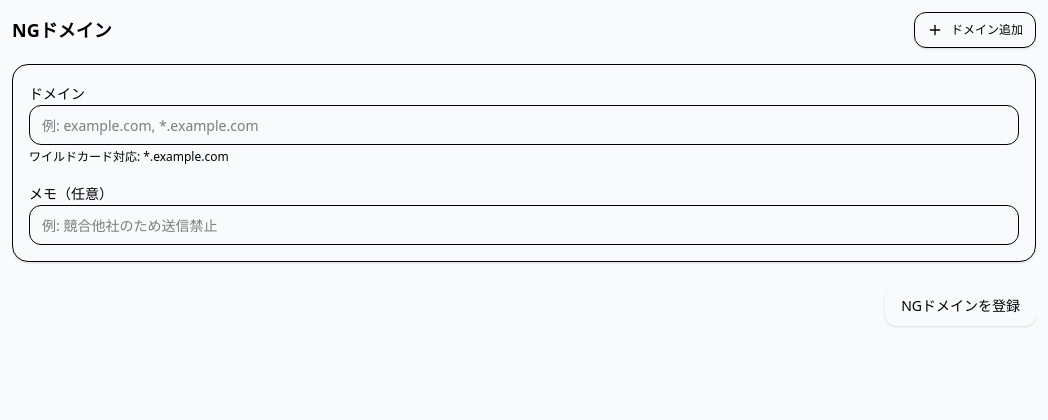
Test: NgListDomainForm › フォーム送信 › 送信エラー時にエラーメッセージが表示される
Type "example.com" into the field labelled "ドメイン" at (524, 125), box [29,105,1019,145]
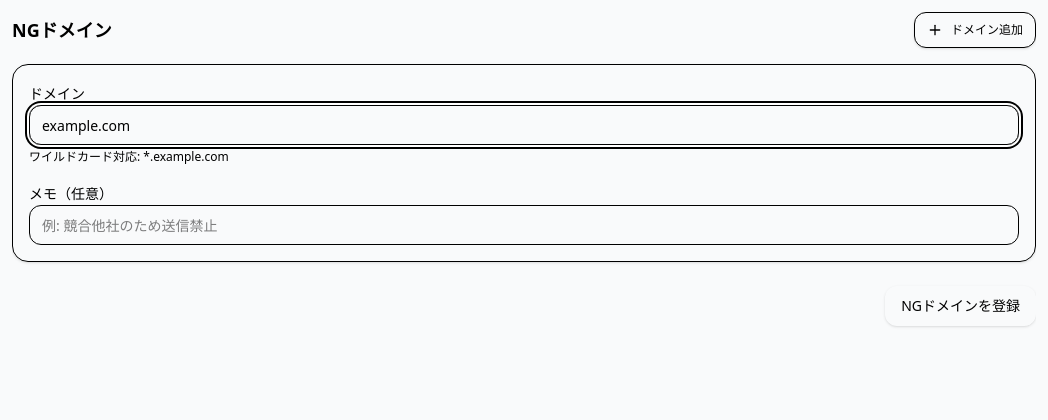
Click the button "NGドメインを登録" at (961, 306), box [885,286,1036,326]
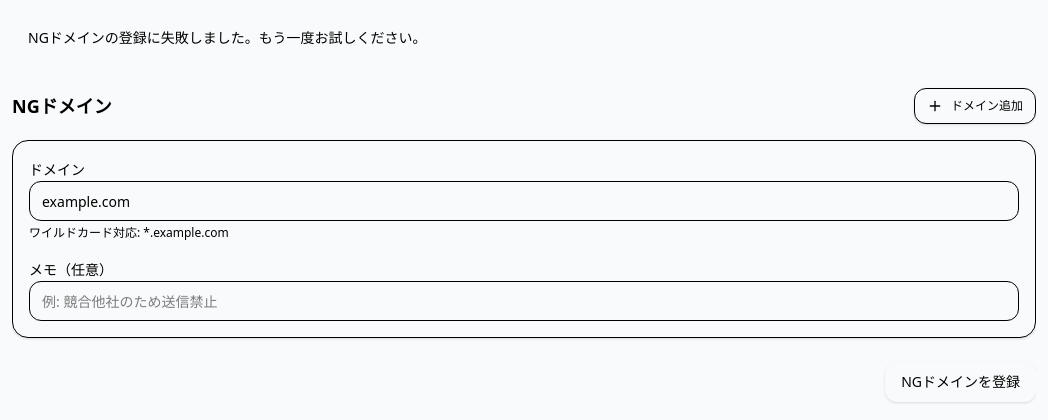
Check: the message "NGドメインの登録に失敗しました。もう一度お試しください。" is shown, box [28,28,426,47]
